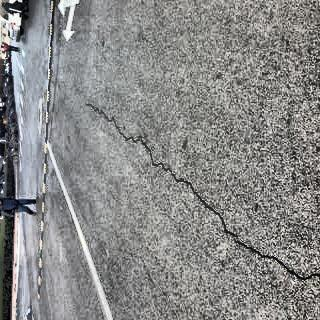crack: (245, 245, 320, 281), (154, 160, 203, 200), (114, 128, 157, 166), (82, 99, 119, 130), (195, 198, 225, 225), (217, 222, 248, 248)
